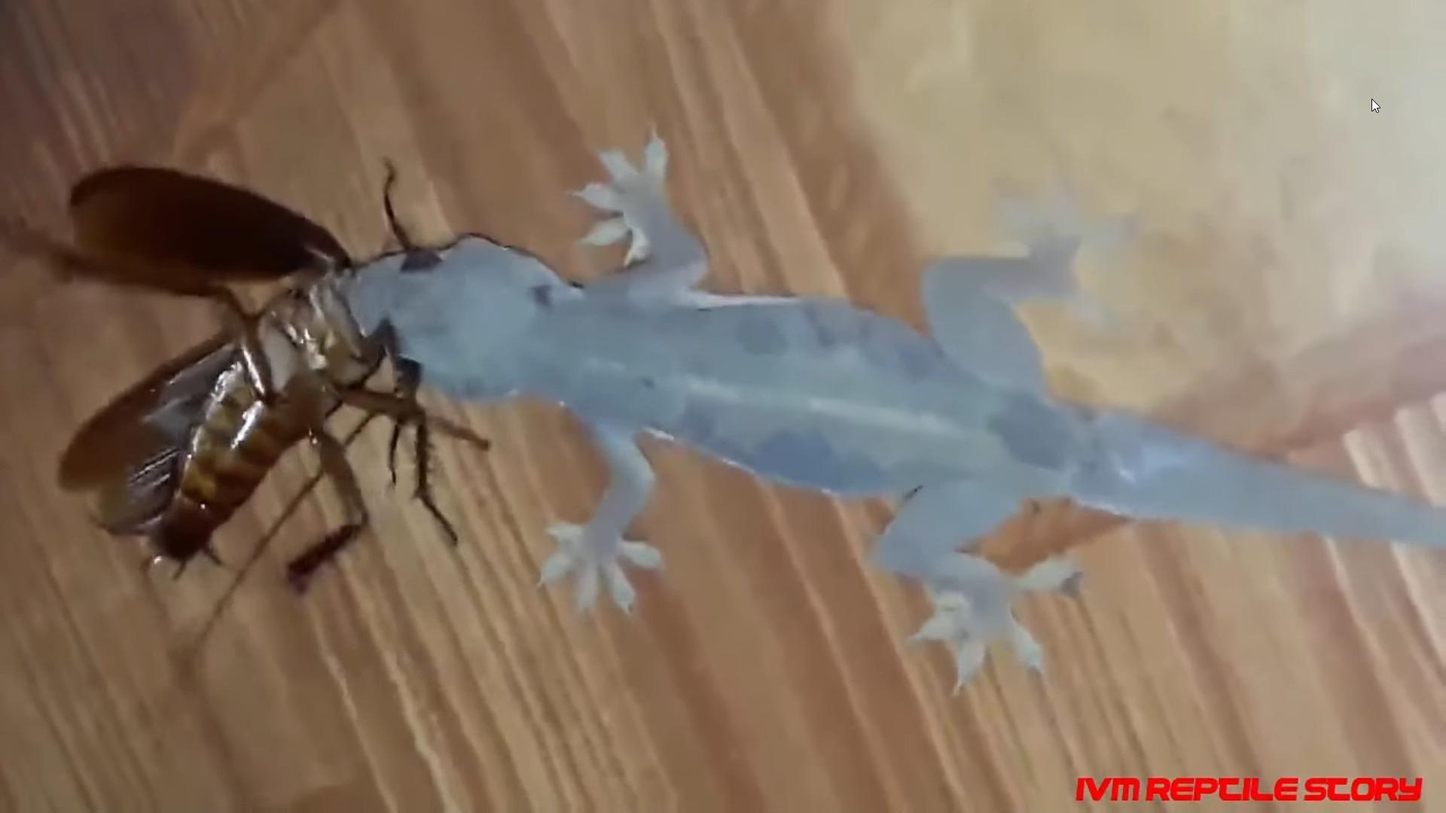cockroach: (87, 254, 368, 572)
lizard: (359, 178, 1339, 681)
